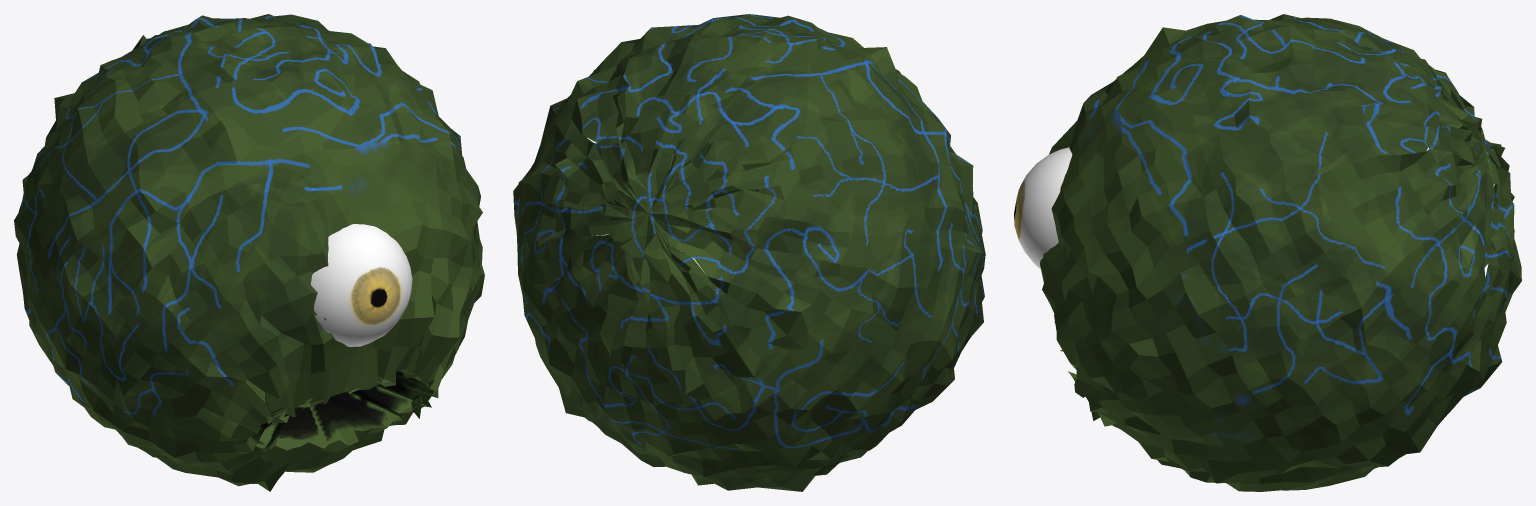
Rendered from WatcherRed2.glb.
3 renders of one model, left to right at view 1: azimuth 30°, elevation 25°; view 2: azimuth 150°, elevation 25°; view 3: azimuth 270°, elevation 25°, orthographic. The views are drawn at different scales.
Parts seen in each view (by area): view 1: Watcher; view 2: Watcher; view 3: Watcher.
Part boxes in pixels (bbox=[...]): Watcher: bbox=[14, 14, 484, 491]; Watcher: bbox=[513, 14, 985, 491]; Watcher: bbox=[1014, 14, 1521, 491].
Bounding box in the file's own units: 1.05 × 1.07 × 1.1.
1 material, 1 textured.
